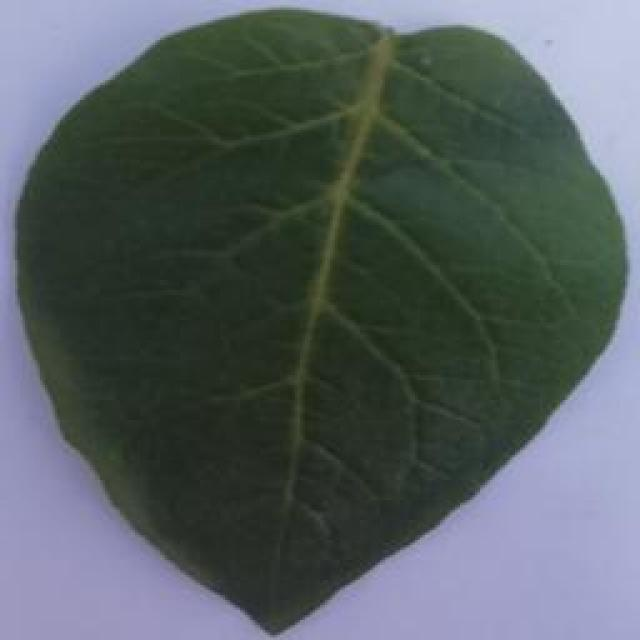Potato_Healthy: (14, 10, 620, 637)
